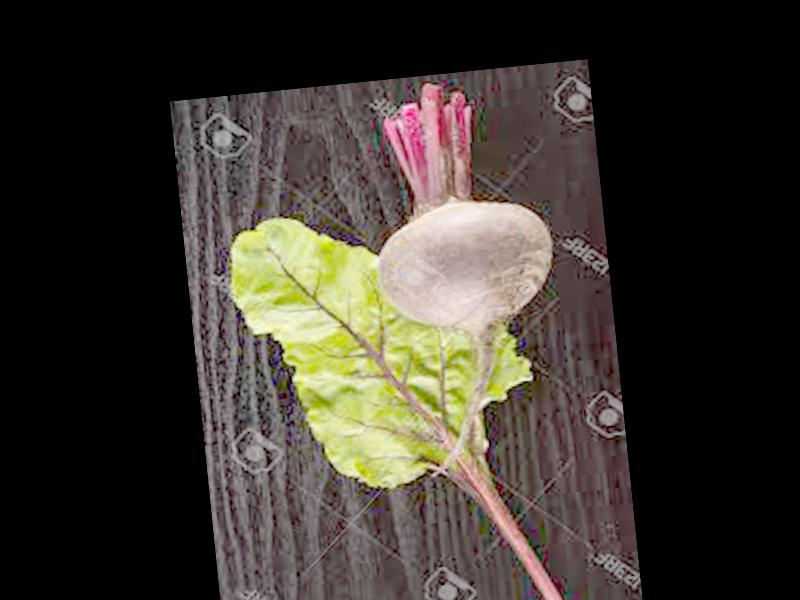Beet: (360, 72, 573, 479)
